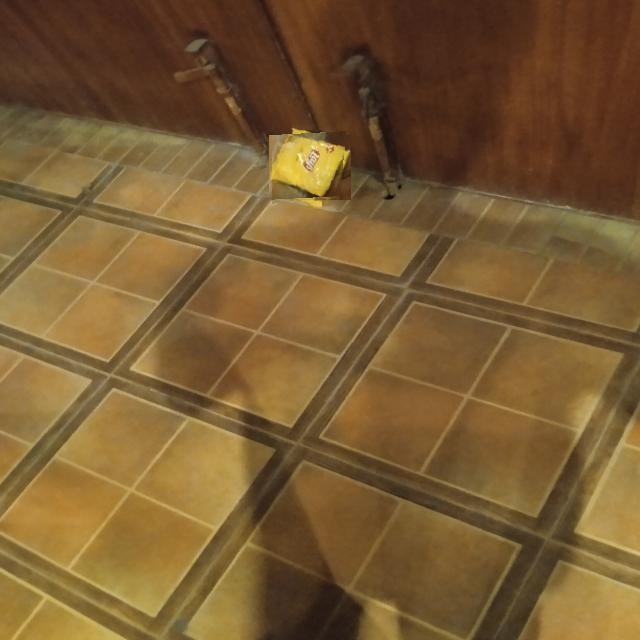Plastic: (272, 130, 347, 204)
